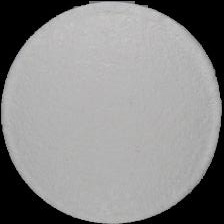58118-0361: (0, 0, 224, 224)
